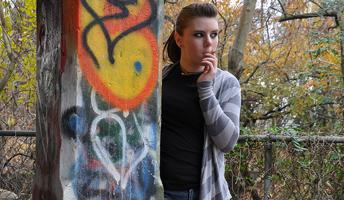person: (161, 3, 244, 199)
